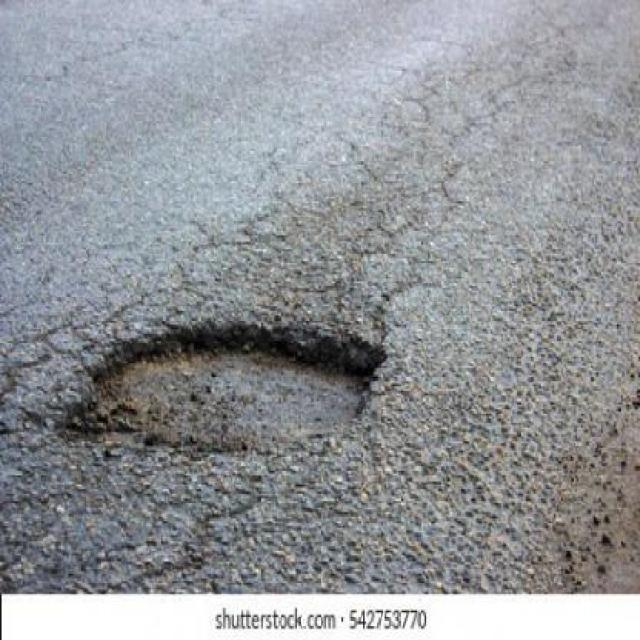Pothole: (59, 320, 386, 455)
